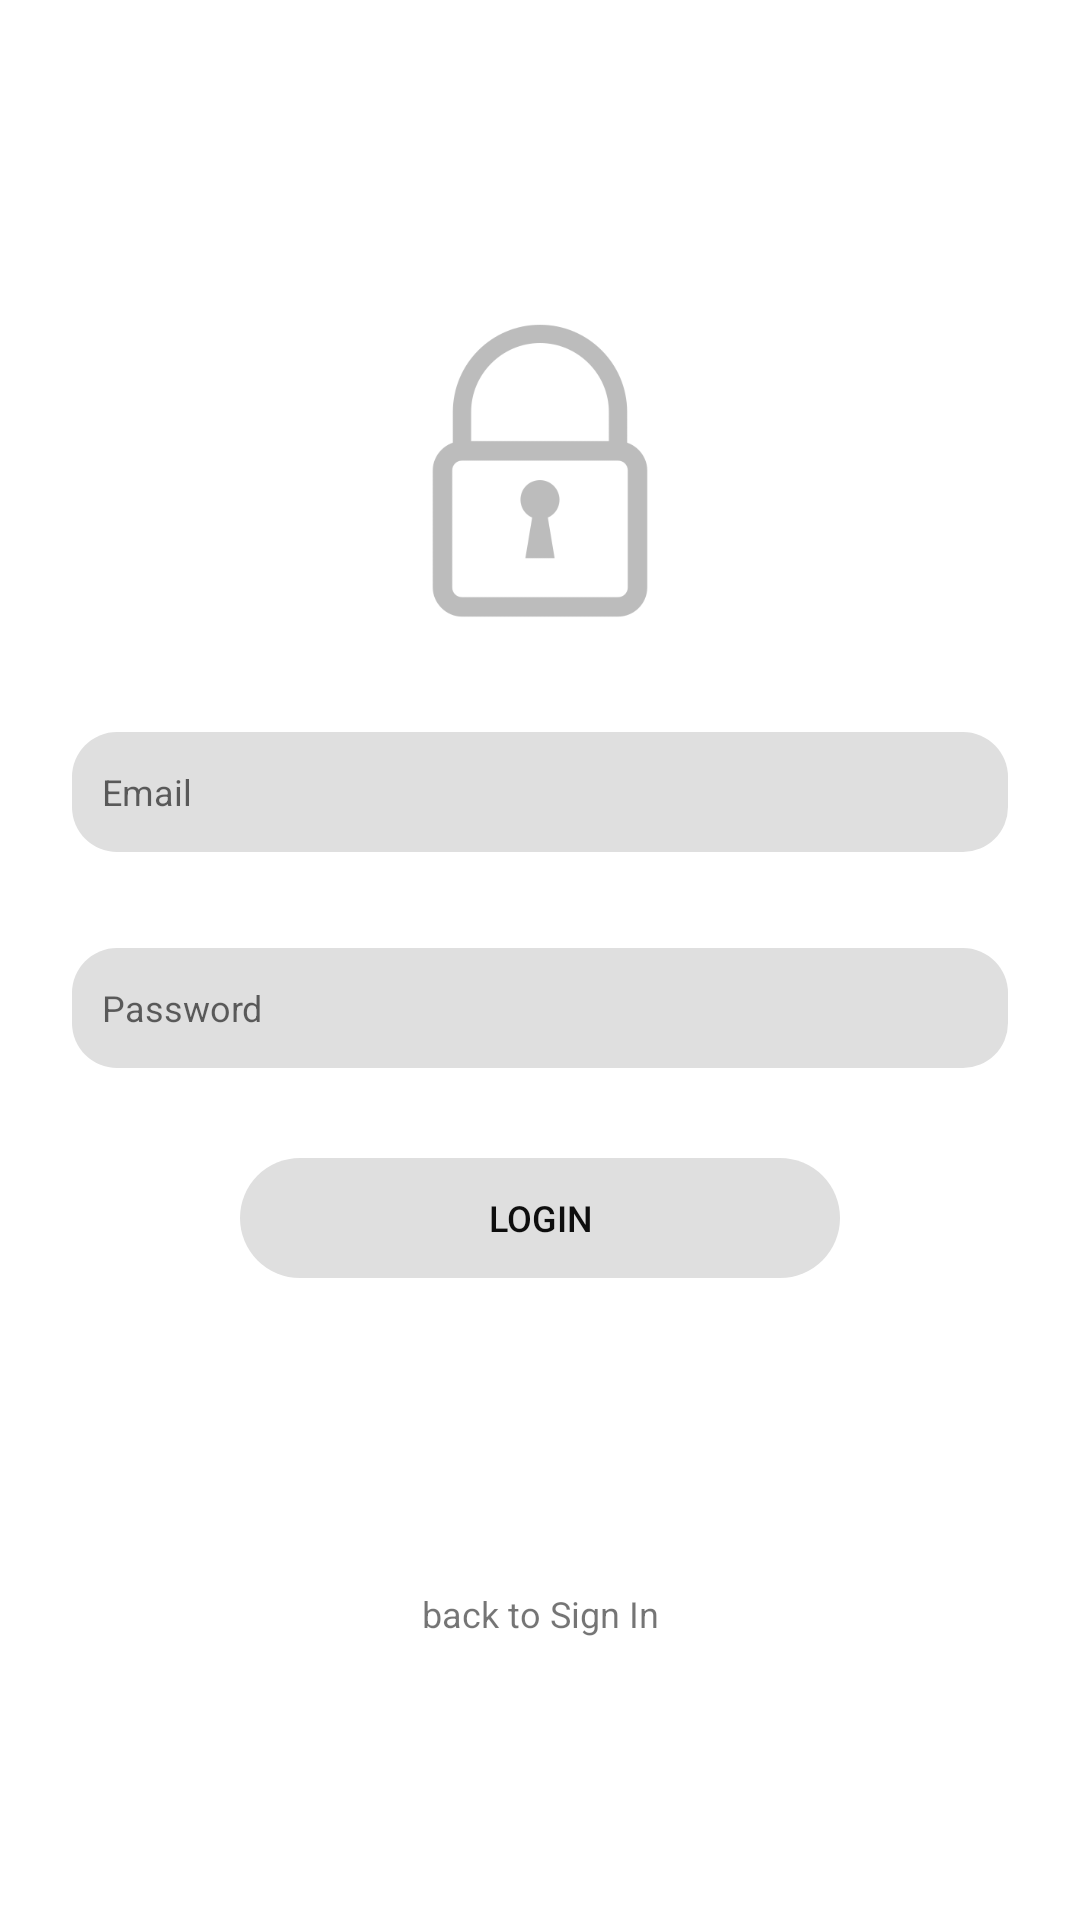

Screen size 1080px x 1920px. Icon name, then its center in pixels as [x,y]:
lock: [540,471]
